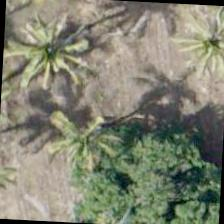Kelapa_Sawit: (38, 88, 133, 183), (39, 0, 134, 76)
